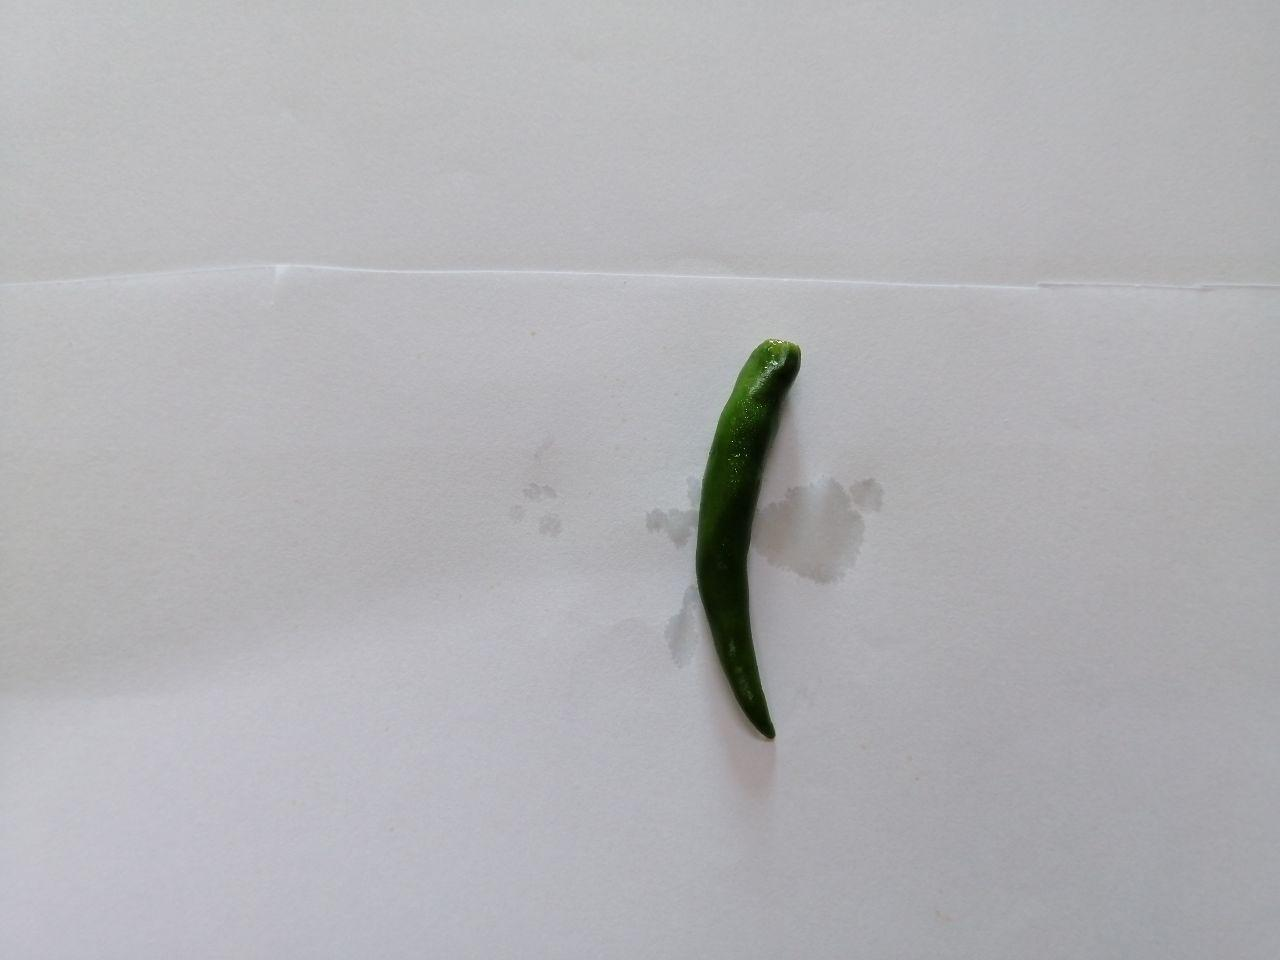lada hijau: (678, 309, 835, 755)
